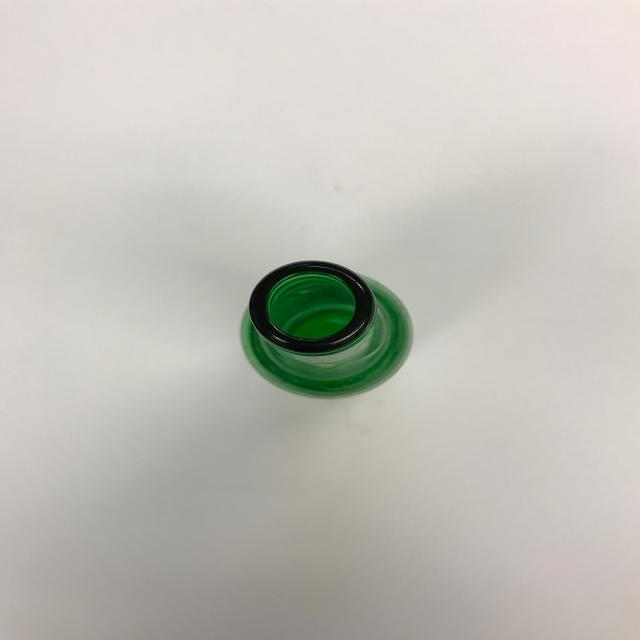glass: (238, 258, 414, 399)
